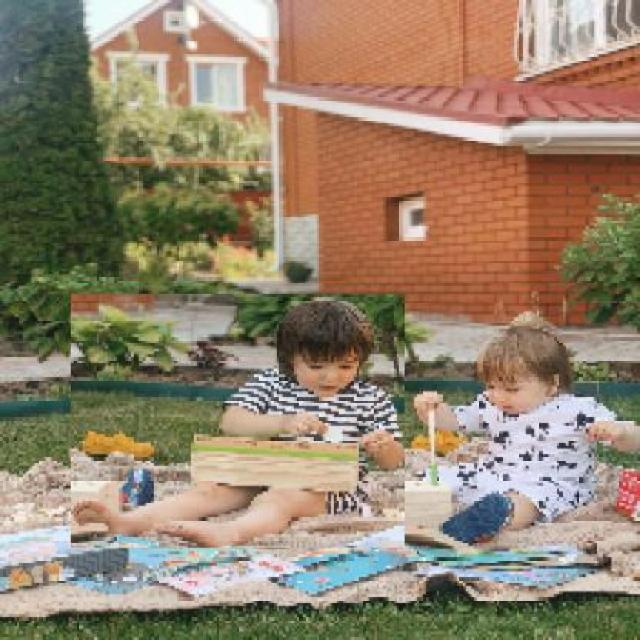child: (69, 294, 405, 549), (414, 312, 640, 545)
